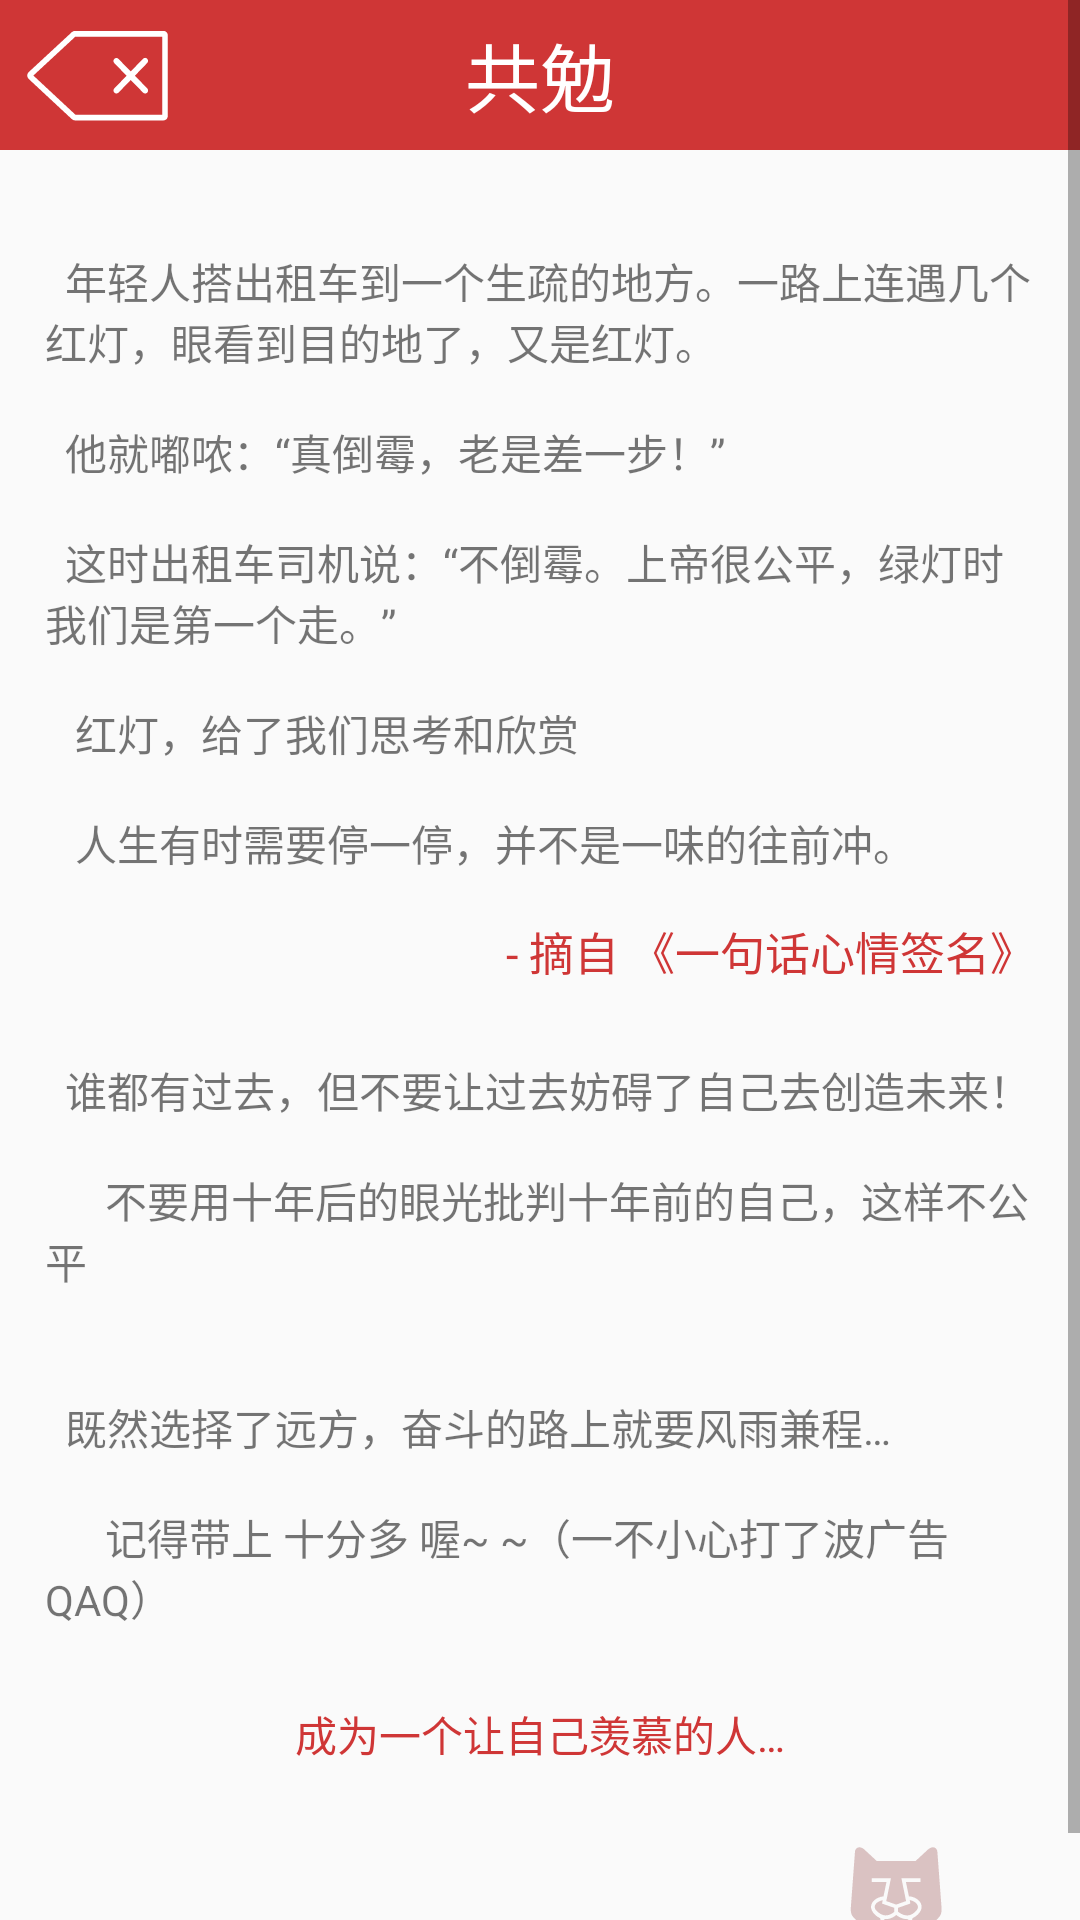

Screen size 1080px x 1920px. Icon name, then its box in pixels as box=[x1, y1, x2, y2]:
back: box=[27, 31, 168, 121]
